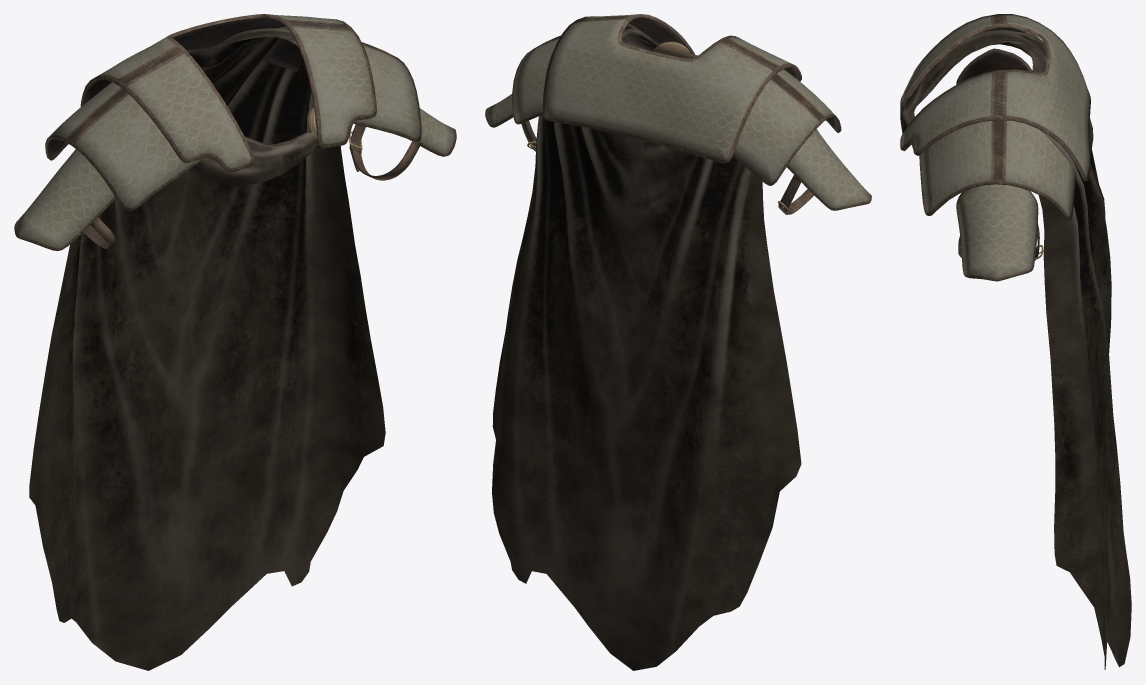
The model's file is dunland_wulf_pauldron_cape_b.fbx.
3 renders of one model, left to right at view 1: azimuth 30°, elevation 25°; view 2: azimuth 150°, elevation 25°; view 3: azimuth 270°, elevation 25°, orthographic. The views are drawn at different scales.
Visible parts, largest first — view 1: dunland_wulf_pauldron_cape_b.cloth, dunland_wulf_pauldron_cape_b.pauldron; view 2: dunland_wulf_pauldron_cape_b.cloth, dunland_wulf_pauldron_cape_b.pauldron; view 3: dunland_wulf_pauldron_cape_b.pauldron, dunland_wulf_pauldron_cape_b.cloth.
Part boxes in pixels (<box>): dunland_wulf_pauldron_cape_b.cloth: <box>29,27,385,670</box>; dunland_wulf_pauldron_cape_b.pauldron: <box>14,14,456,250</box>; dunland_wulf_pauldron_cape_b.cloth: <box>492,29,801,670</box>; dunland_wulf_pauldron_cape_b.pauldron: <box>485,14,871,214</box>; dunland_wulf_pauldron_cape_b.pauldron: <box>900,14,1090,281</box>; dunland_wulf_pauldron_cape_b.cloth: <box>900,30,1131,669</box>.
Bounding box in the file's own units: 0.8712 × 0.4345 × 1.29.
Materials: 2 (2 with a texture image).
